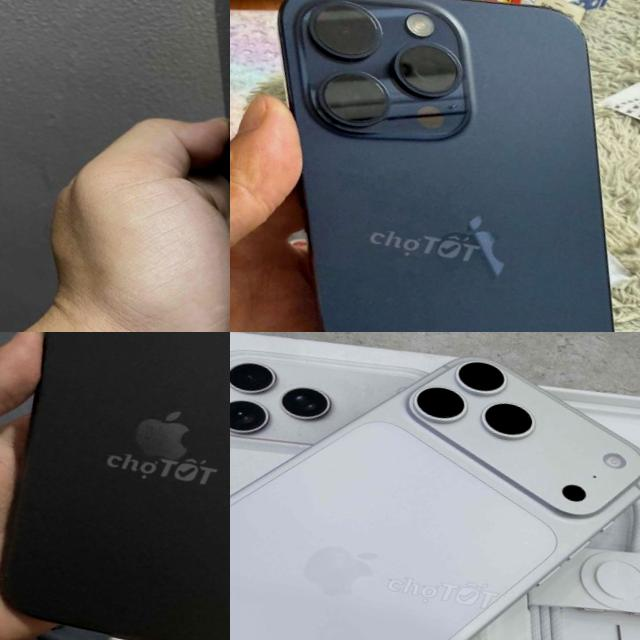gen_11: (0, 332, 230, 640), (119, 0, 230, 332)
gen_15: (230, 0, 640, 332)
gen_17: (230, 332, 640, 640)
